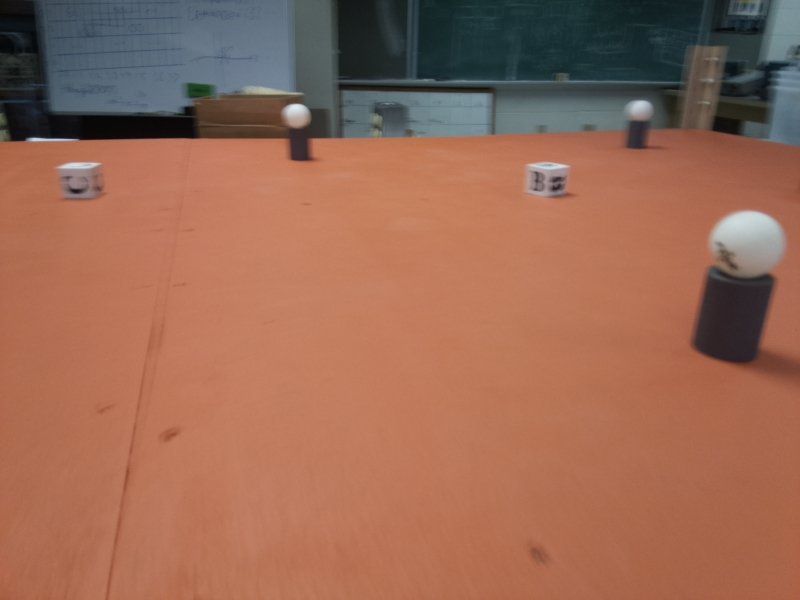blockB: (531, 161, 566, 203)
blockC: (60, 157, 107, 204)
corner: (688, 41, 718, 133)
obstacle: (687, 209, 779, 362), (281, 101, 313, 164), (627, 94, 652, 148)
